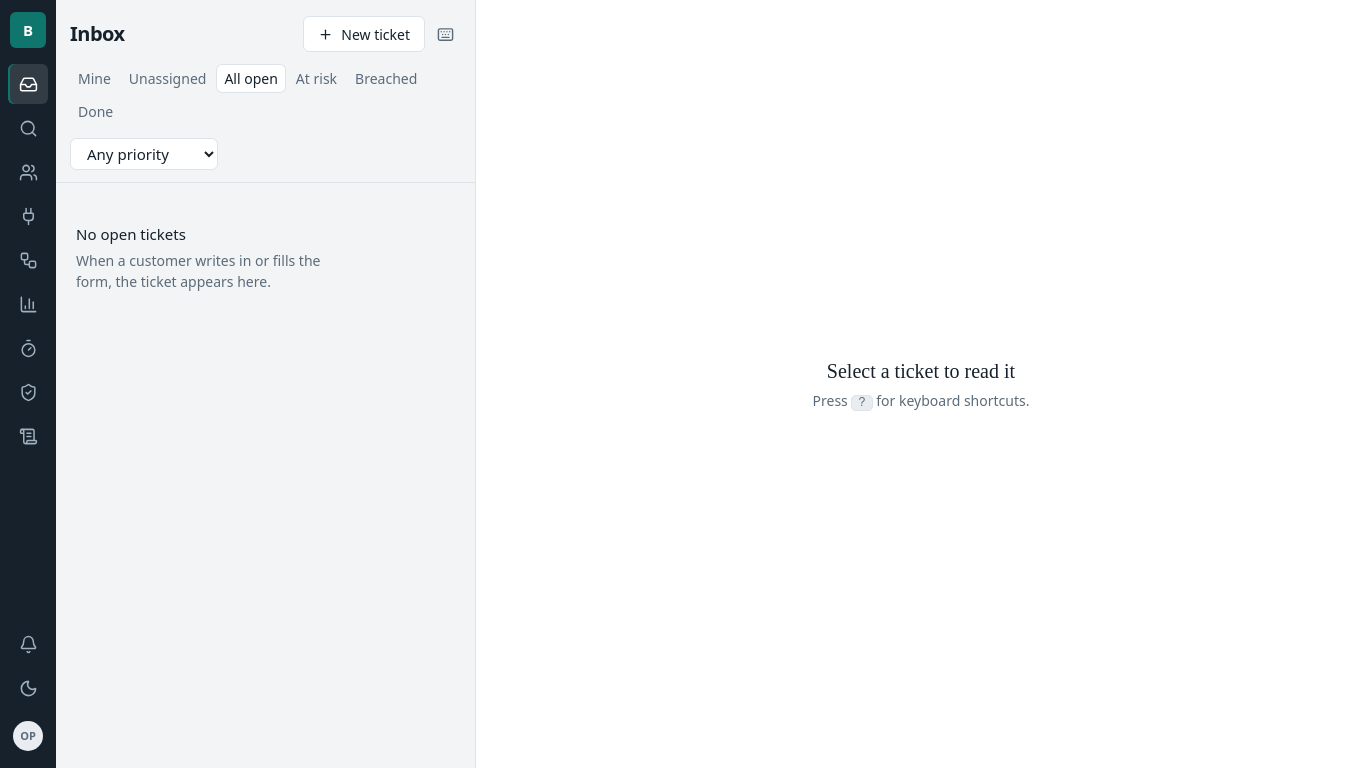
inbox › shows view-specific empty states with a next step
Expected: the text "No open tickets" is shown, [76, 224, 186, 244]
Click the tab "Unassigned" at {"x": 168, "y": 78}, box [121, 64, 214, 93]
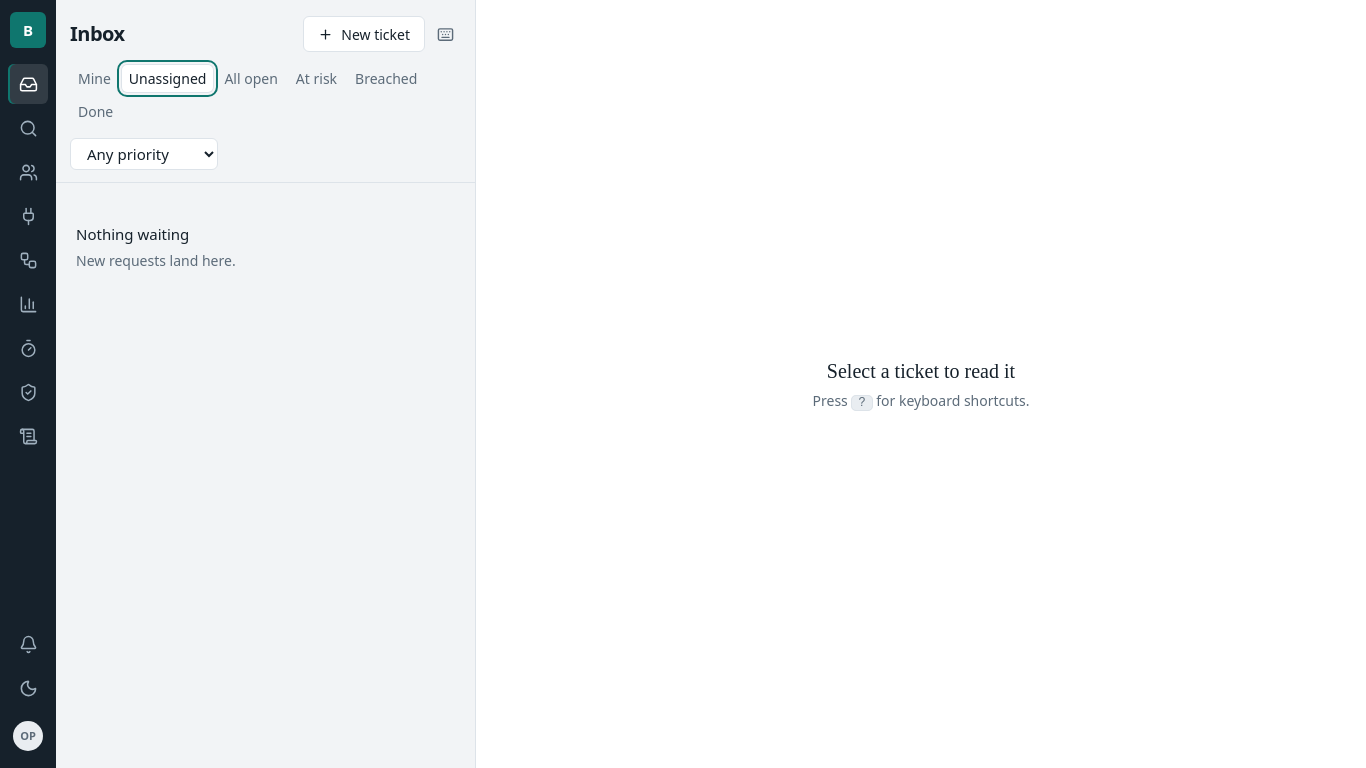
Result: the text "Nothing waiting" is shown at [76, 224, 189, 244]
Result: the text "New requests land here." is shown at [76, 250, 236, 270]
Click the tab "Mine" at {"x": 94, "y": 78}, box [70, 64, 119, 93]
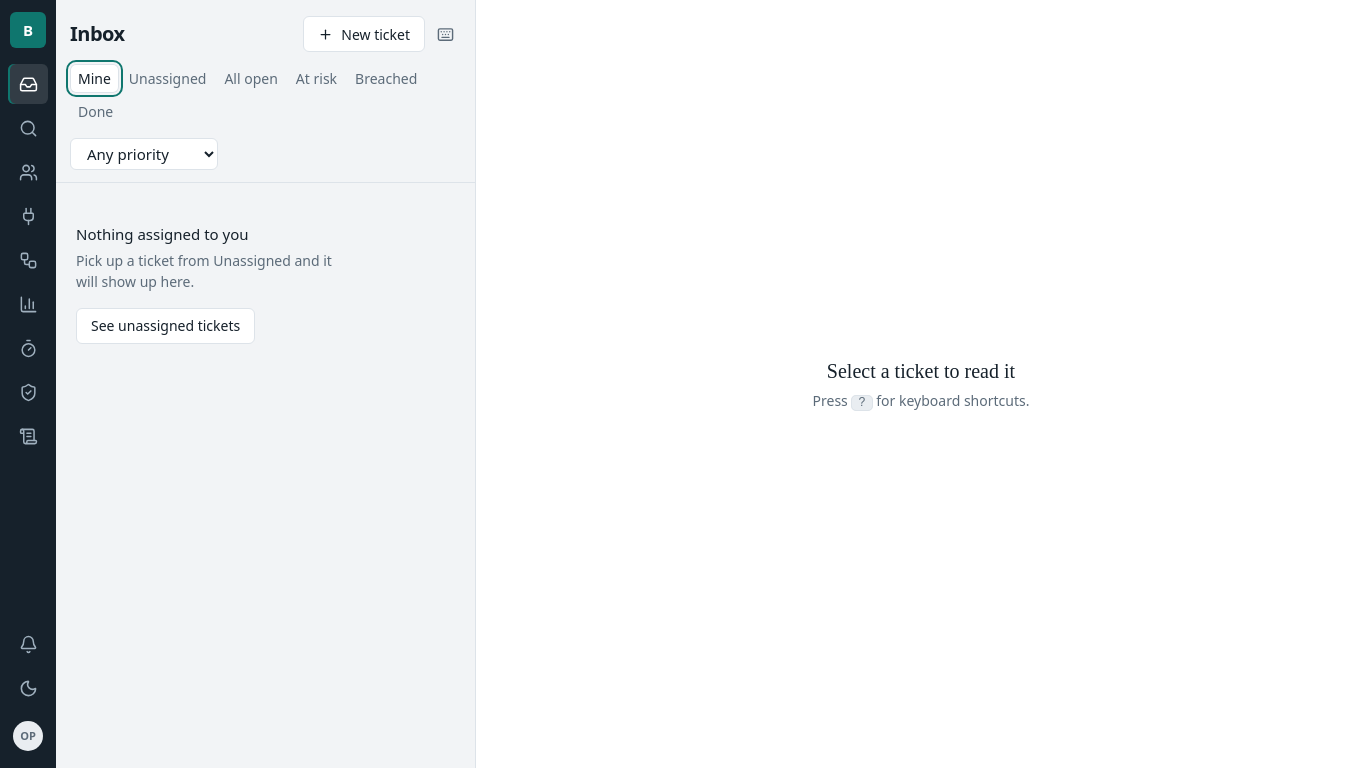
Result: the text "Nothing assigned to you" is shown at [76, 224, 248, 244]
